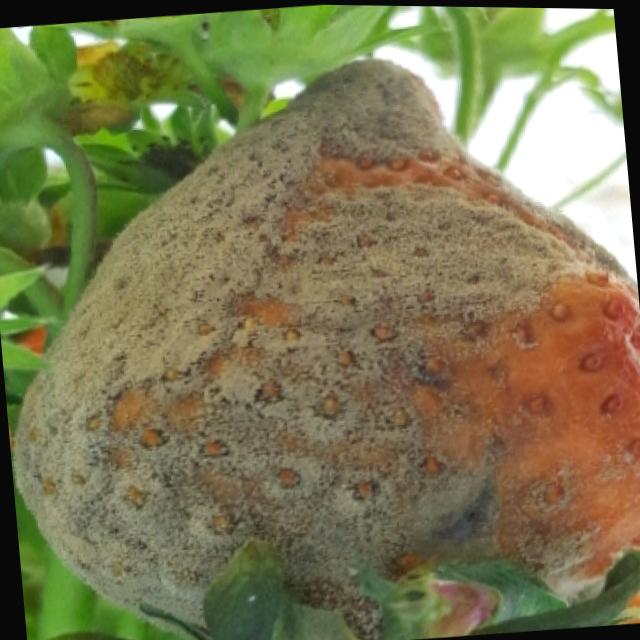Gray Mold: (11, 53, 640, 640)
